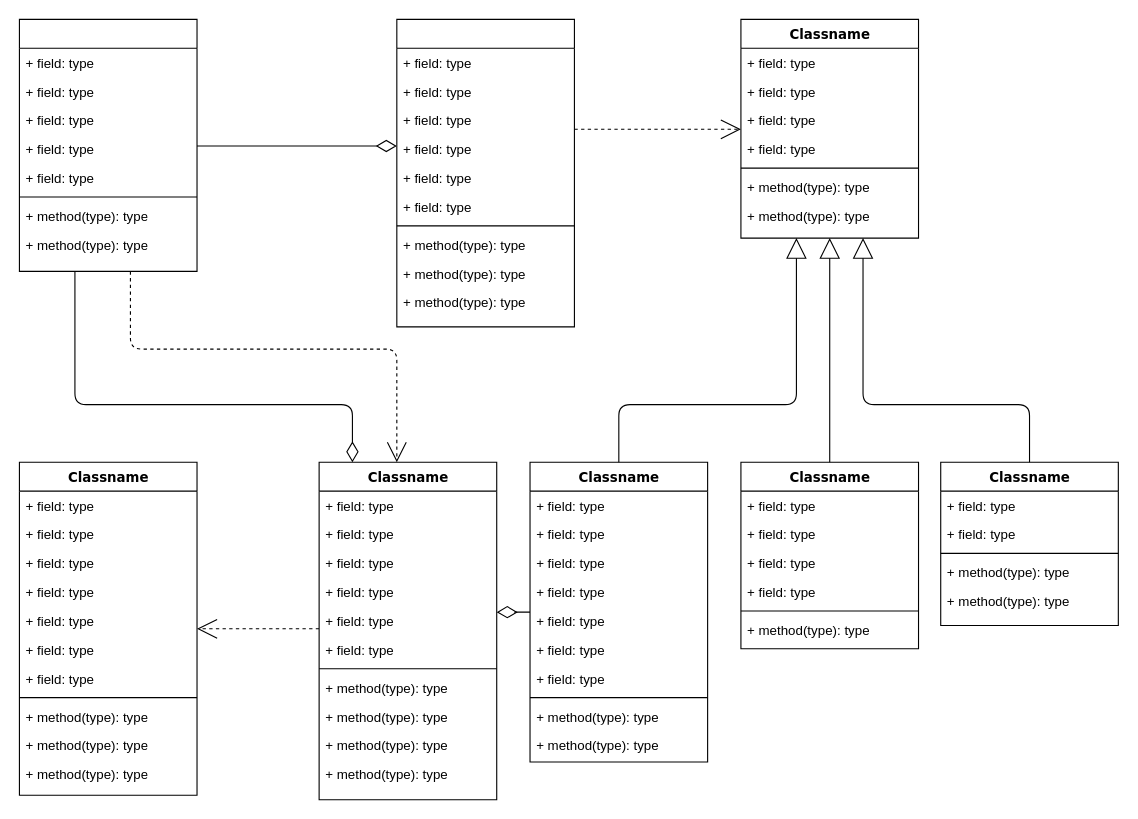
Some shapes in this 1138 by 819 pixel diagram are drawn without their labels. Here are the shapes that lost their labels. From the top down, the box of each, then its label:
(18, 18, 197, 271): ChatApp
(396, 18, 574, 327): ClientLibrary
